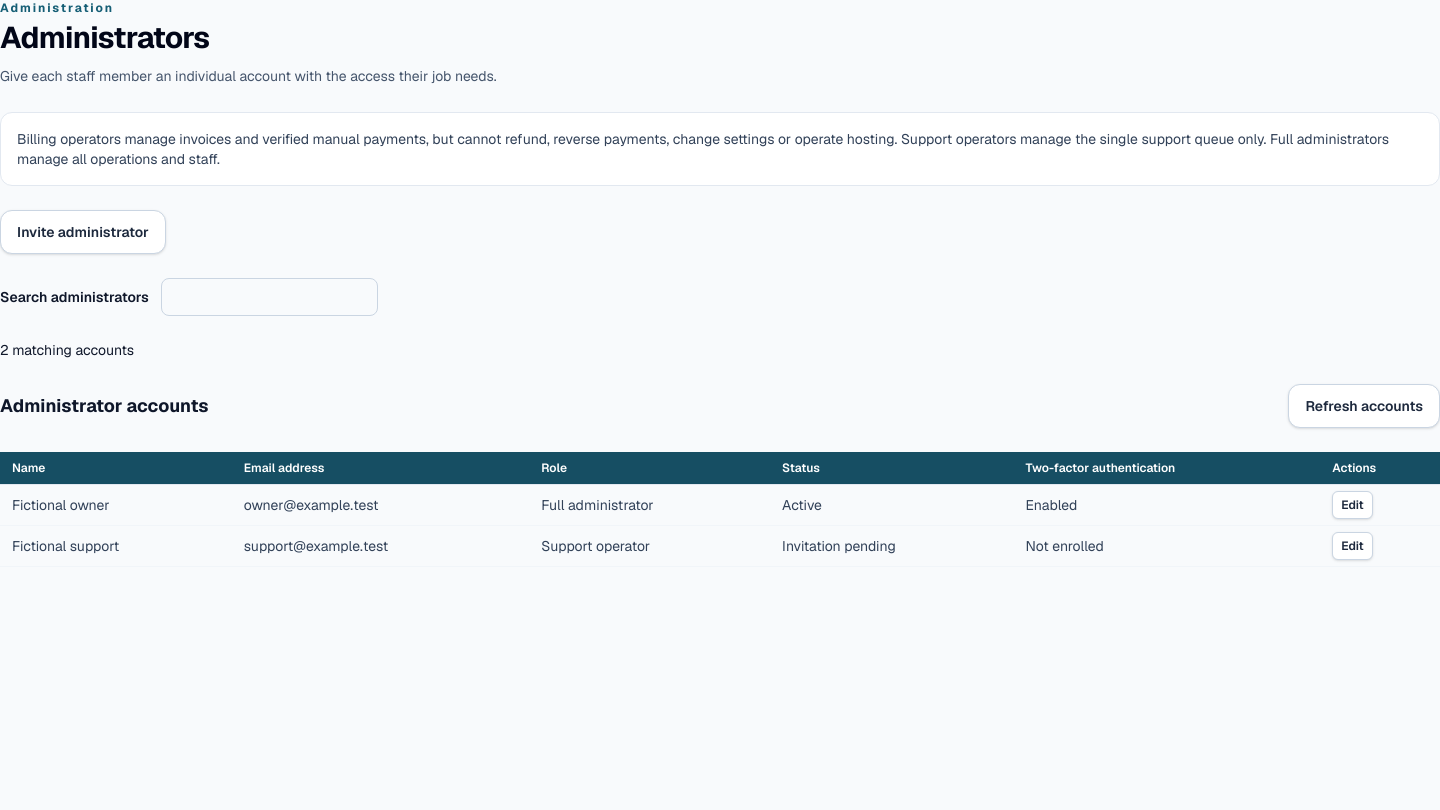
Scenario: administrator account management › captures the selected account and requires confirmation before a role/disable change
This screenshot has width=1440, height=810.
Click the button named "Edit support@example.test" at x=1352, y=546, box [1332, 532, 1373, 560]
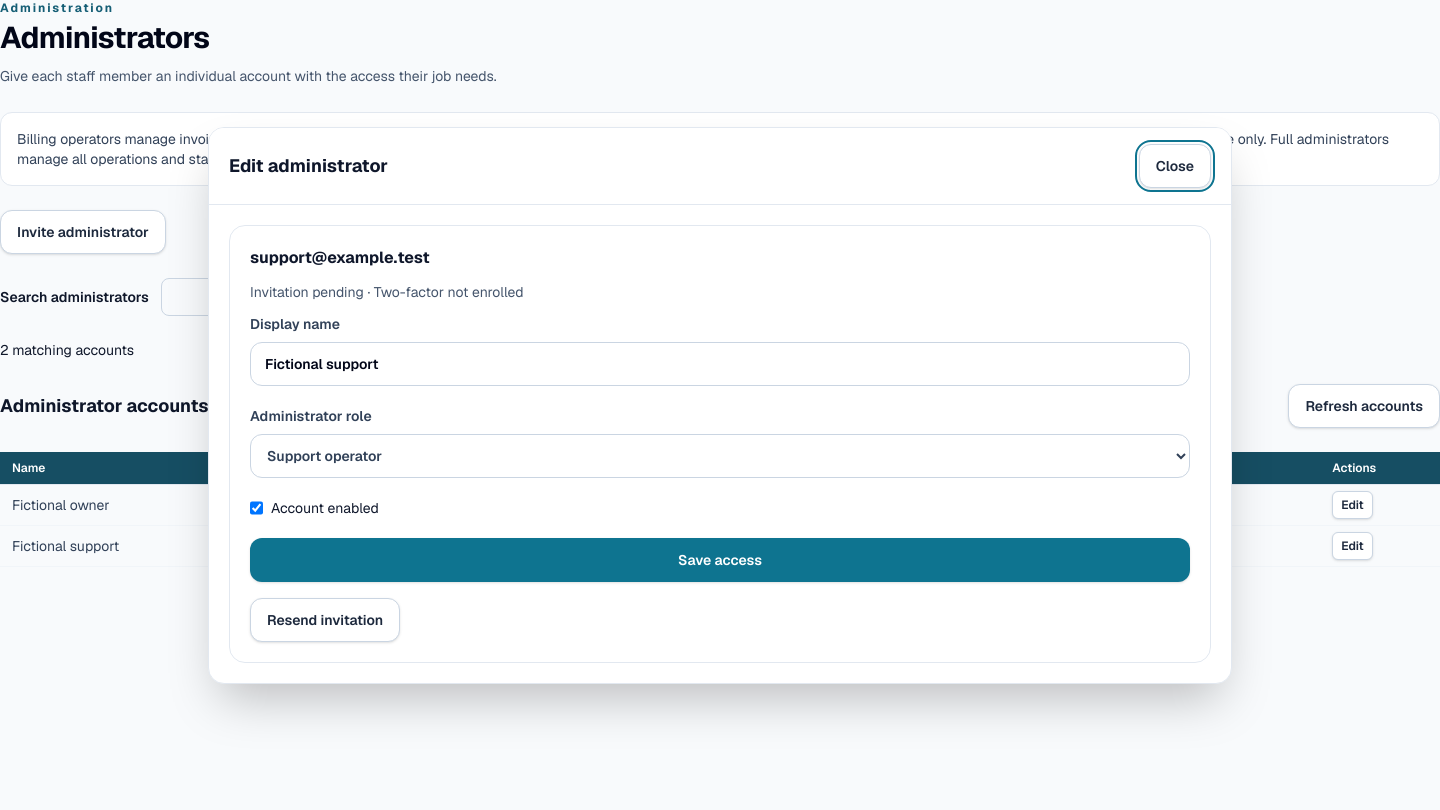
Select "Billing operator" in the dropdown at x=720, y=456, box [250, 434, 1190, 478]
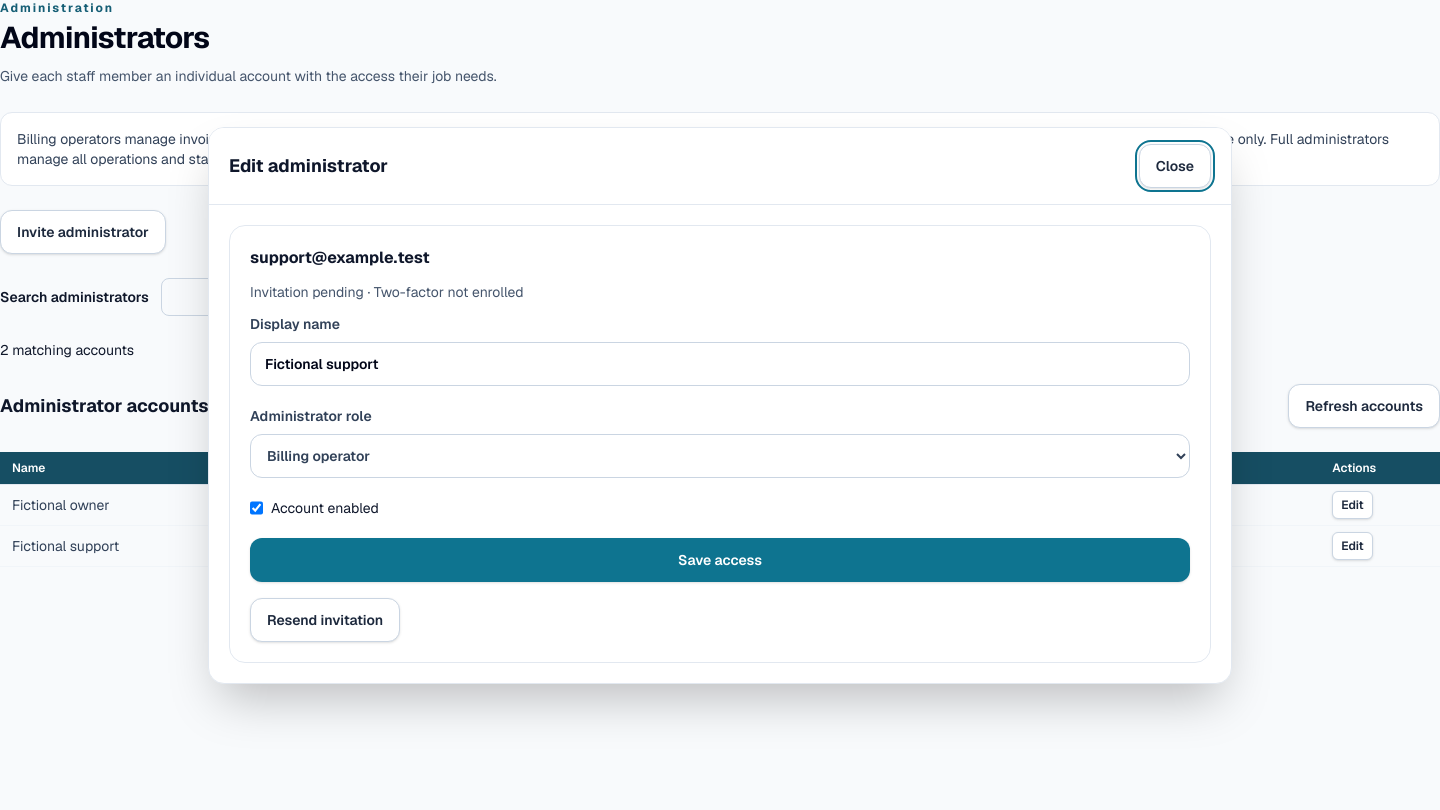
Click the checkbox at x=256, y=508, box [250, 498, 263, 518]
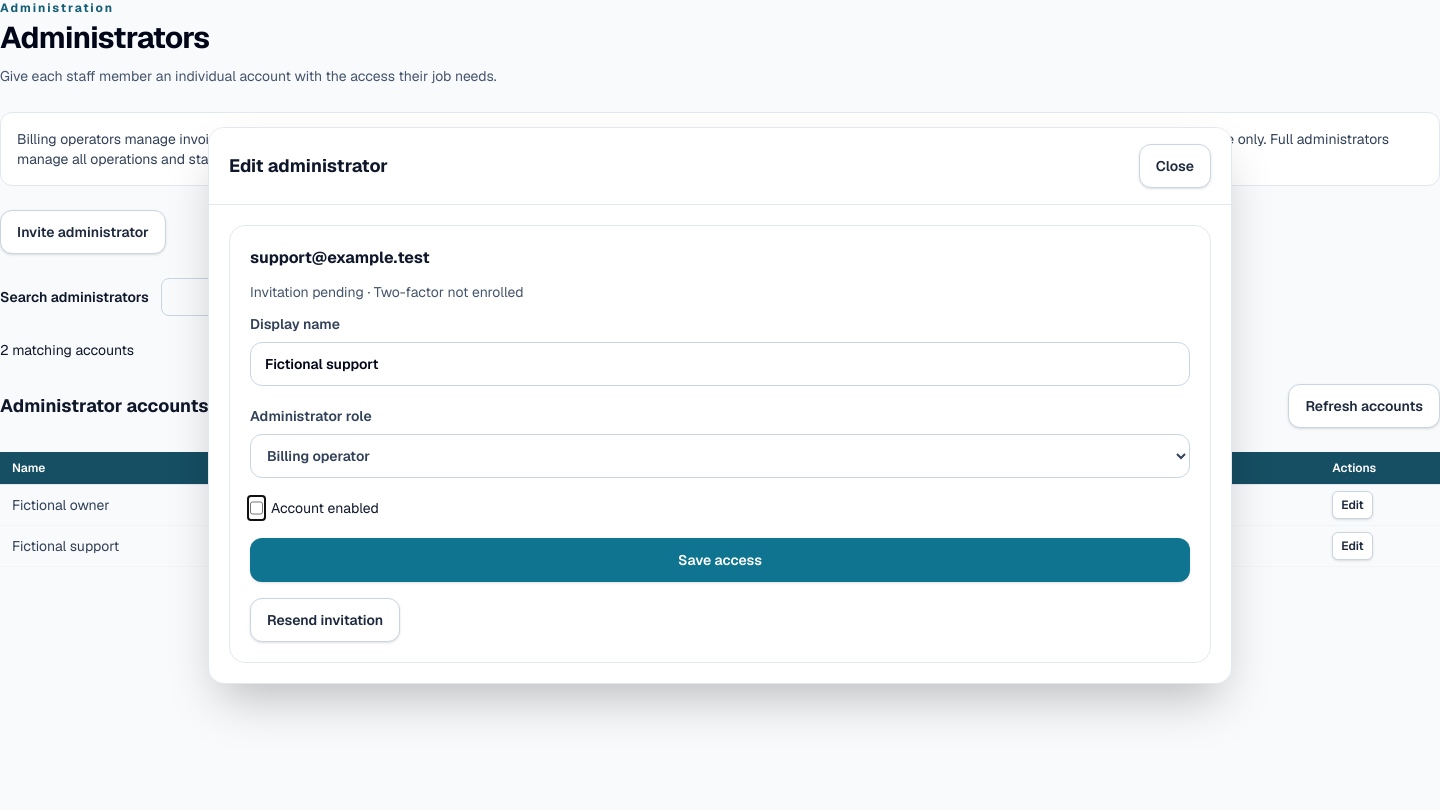
Click the button "Save access" at x=720, y=560, box [250, 538, 1190, 582]
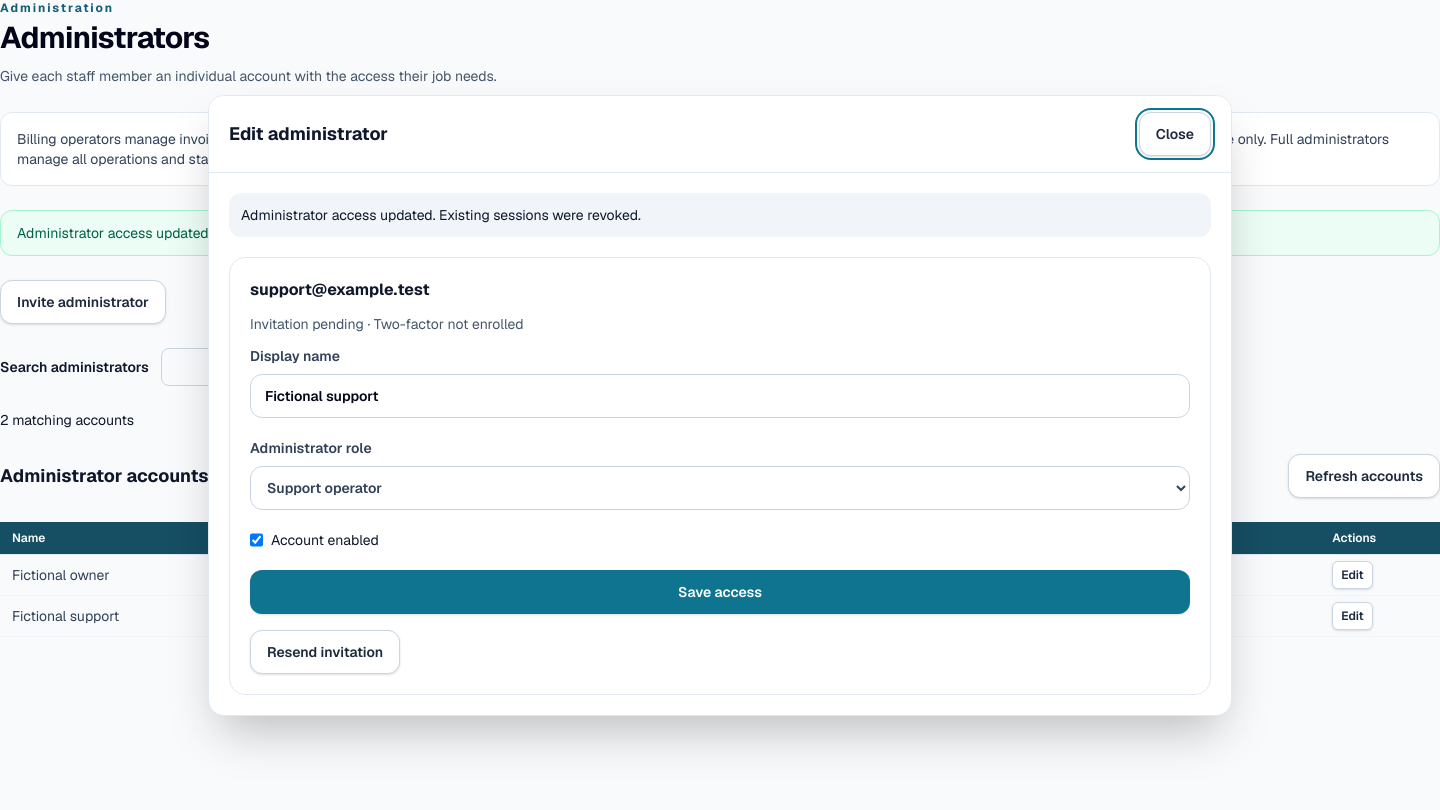
Expected: the message "Administrator access updated. Existing sessions were revoked." is shown, [0, 210, 1439, 256]
